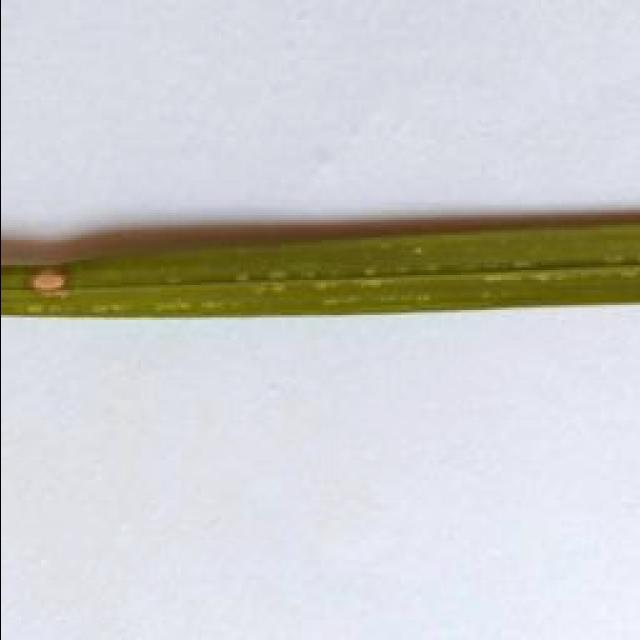Unhealthy: (22, 267, 69, 294)
